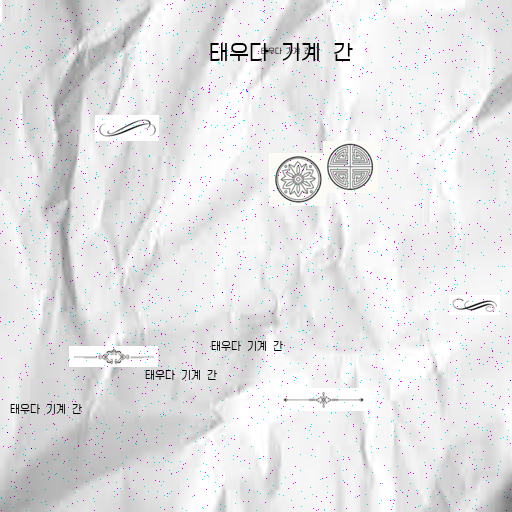text: (209, 42, 349, 62), (10, 404, 80, 414), (211, 341, 281, 351), (145, 370, 215, 380), (261, 47, 310, 54)
